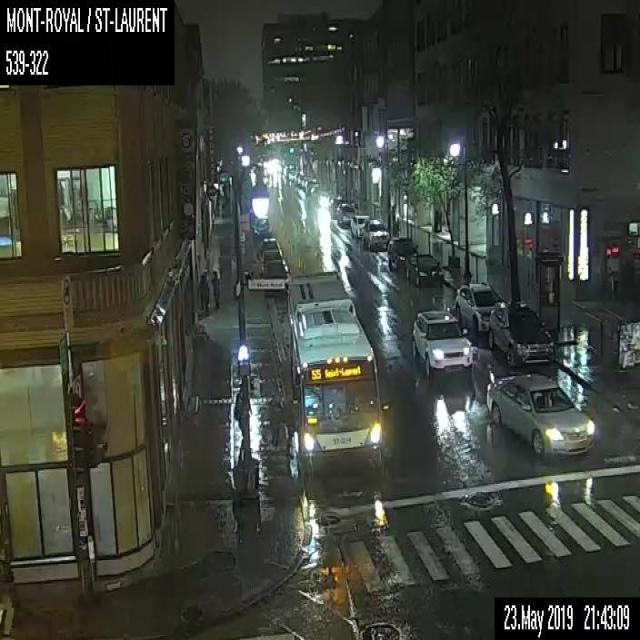bus: (286, 268, 384, 479)
pedestrian: (198, 269, 210, 316), (210, 265, 221, 316)
vehicle: (485, 371, 597, 457), (490, 301, 554, 365), (410, 311, 472, 377), (455, 283, 495, 340), (405, 256, 443, 290), (386, 233, 415, 276), (260, 255, 288, 296), (363, 220, 388, 252), (257, 234, 283, 260), (349, 213, 367, 240), (335, 202, 352, 230), (250, 216, 272, 237)
